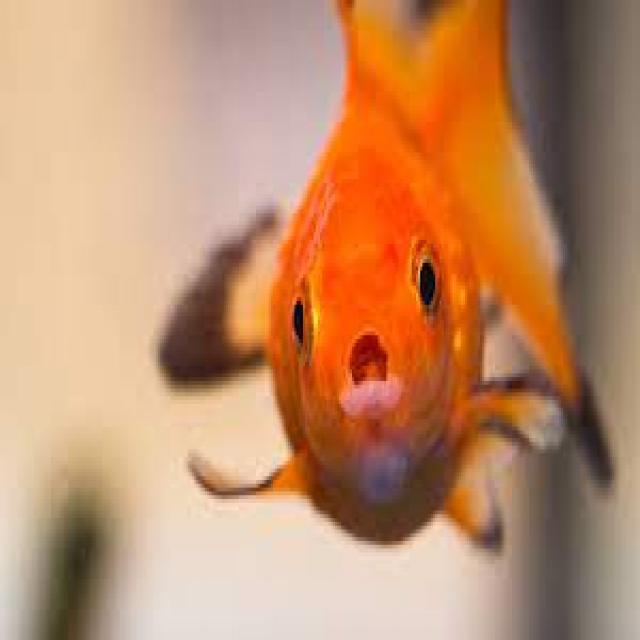goldfish: (255, 19, 520, 550)
